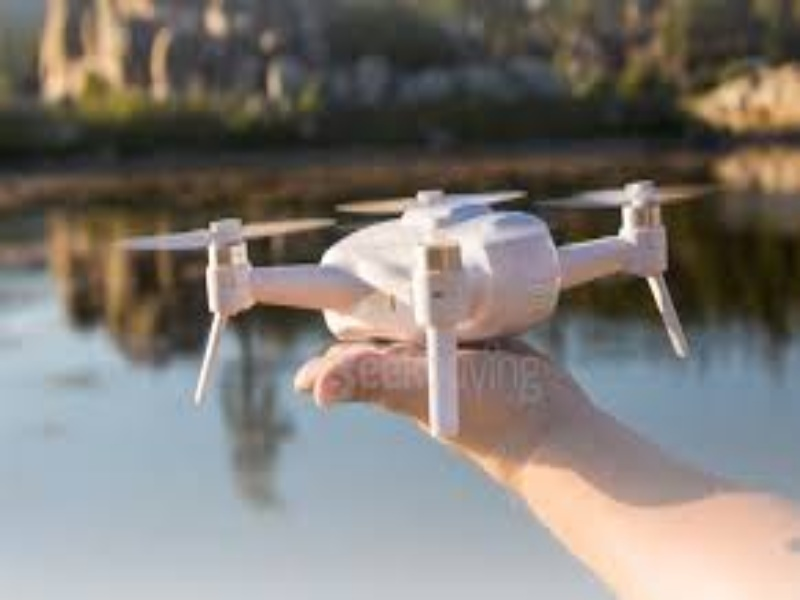drone: (144, 161, 713, 441)
